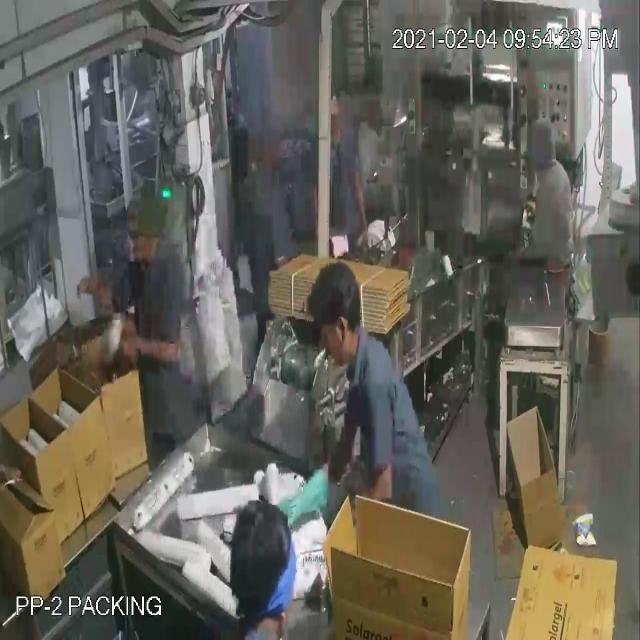No_Gloves: (24, 68, 361, 498)
